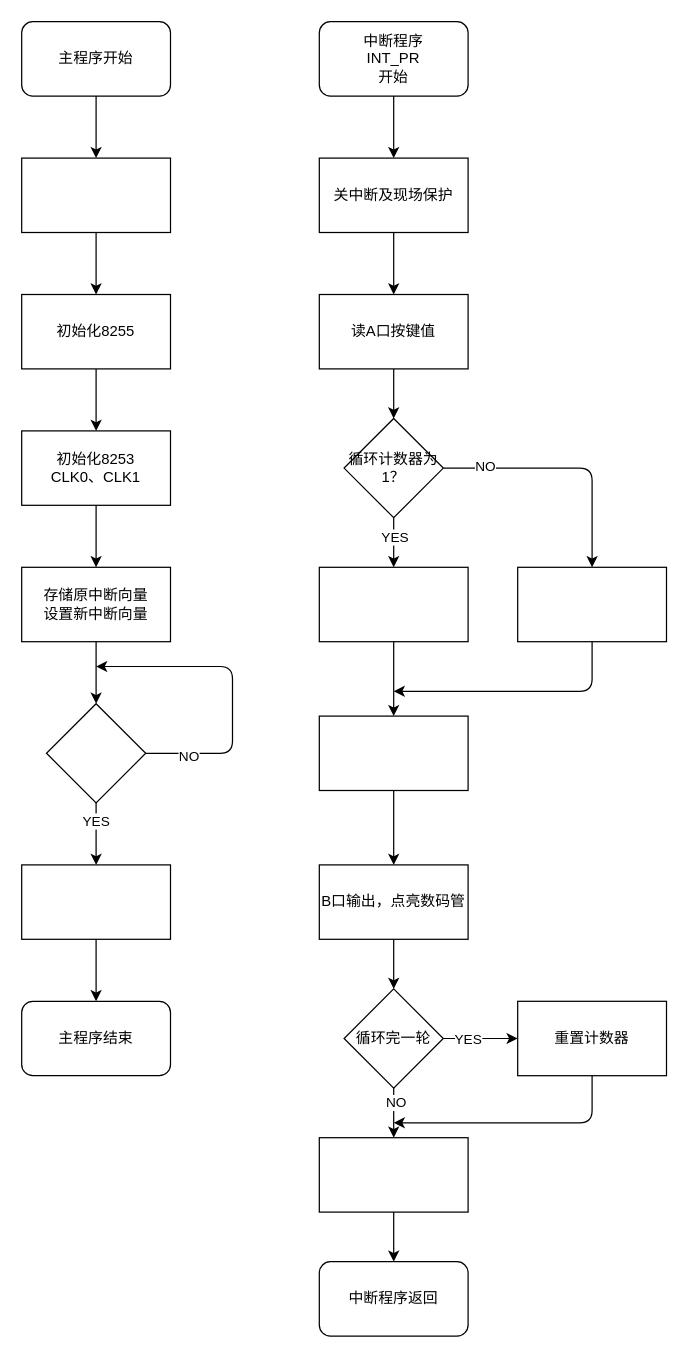
Some shapes in this 688 by 1358 pixel diagram are drawn without their labels. Here are the shapes that lost their labels. From the top down, the box of each, then its label:
(20, 157, 170, 232): 显示提示信息
(318, 566, 468, 642): 显示低四位
(516, 566, 666, 642): 显示高四位
(45, 702, 146, 803): 是否有键按下
(318, 715, 468, 790): 查找对应数码管段码
(20, 864, 170, 939): 恢复原中断向量
(318, 1136, 468, 1212): 恢复现场及开中断
